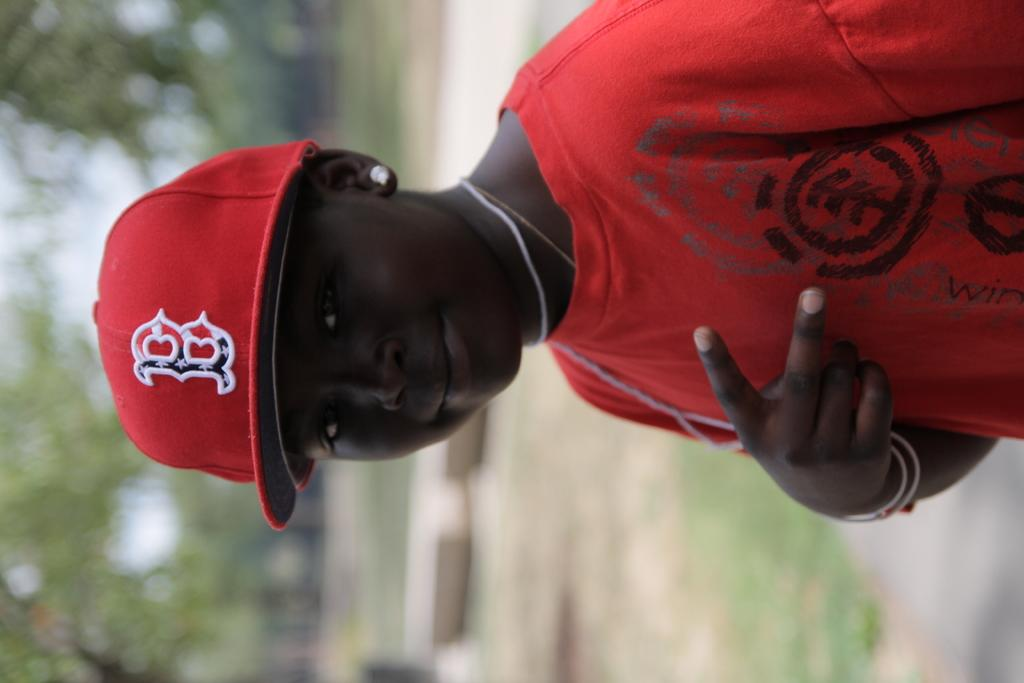Hat: (86, 134, 326, 531)
